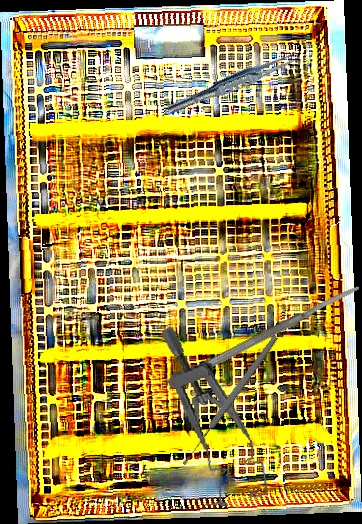Spatula Surgical: (176, 282, 362, 385)
Speculum: (157, 313, 272, 515)
Surgical Spoon: (179, 334, 280, 467)
Tissue Forceps: (165, 46, 302, 120)
